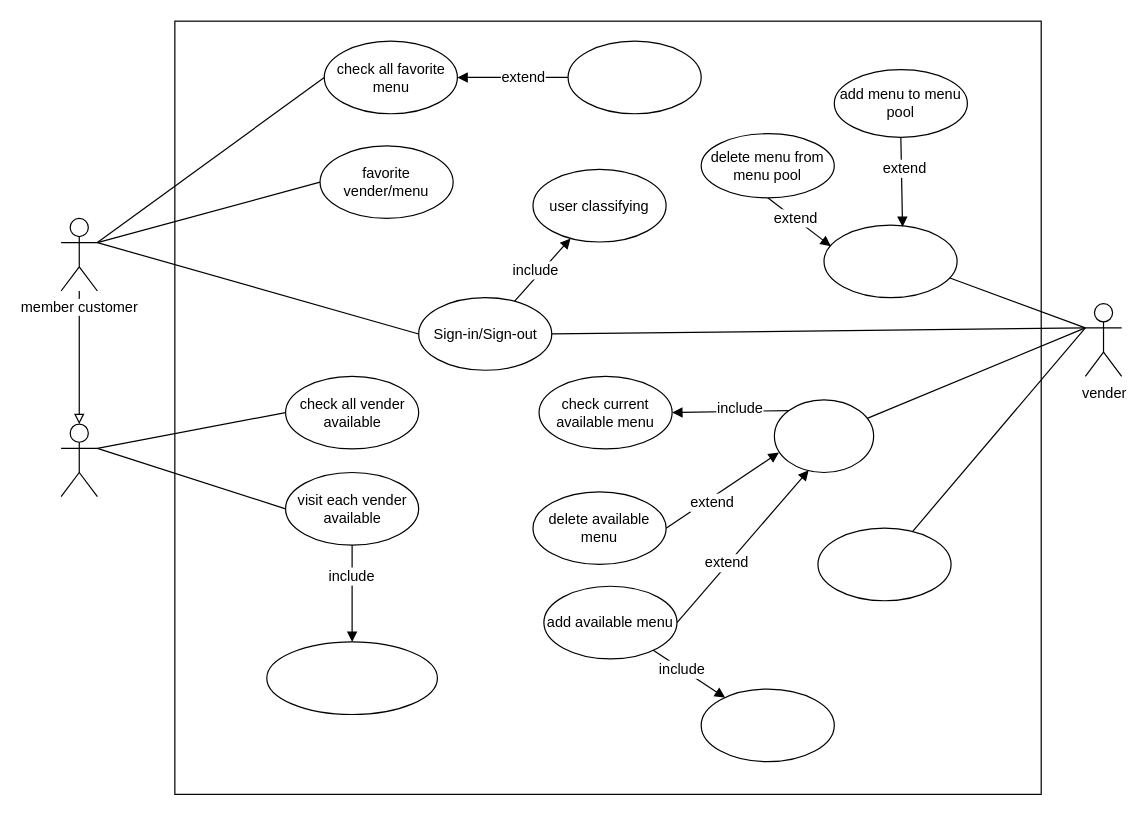
Some shapes in this 1147 by 816 pixel diagram are drawn without their labels. The shapes that lost their labels are listed below. From the top down, each one's centre as x and y in pixels, then its label:
At pixel 634 77: "unfavorite menu".
At pixel 890 261: "check own menu pool".
At pixel 823 436: "check own home-page".
At pixel 78 460: "guest customer".
At pixel 884 564: "edit profile".
At pixel 351 678: "list all available menu of current vender".
At pixel 767 725: "check for empty of menu pool".
